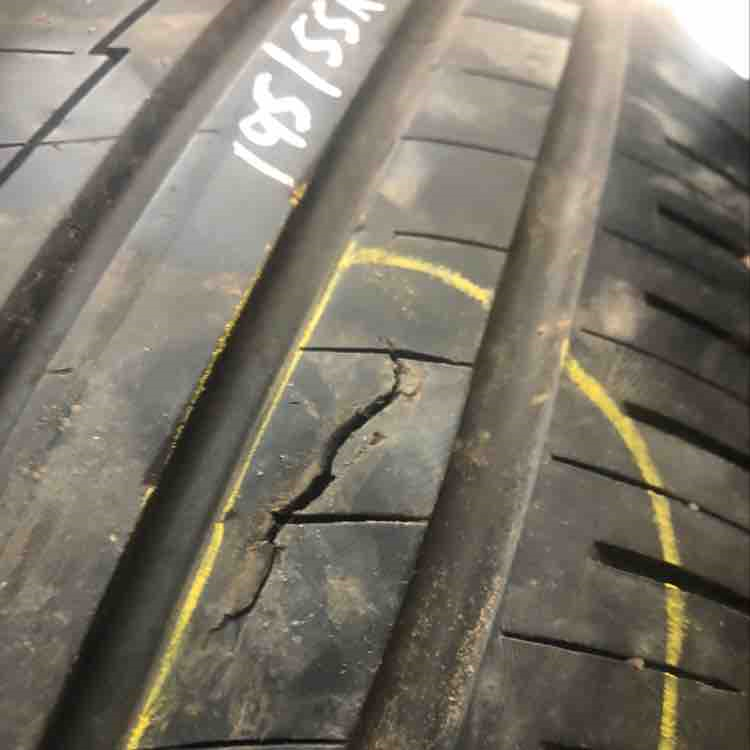tr: (201, 330, 417, 643)
